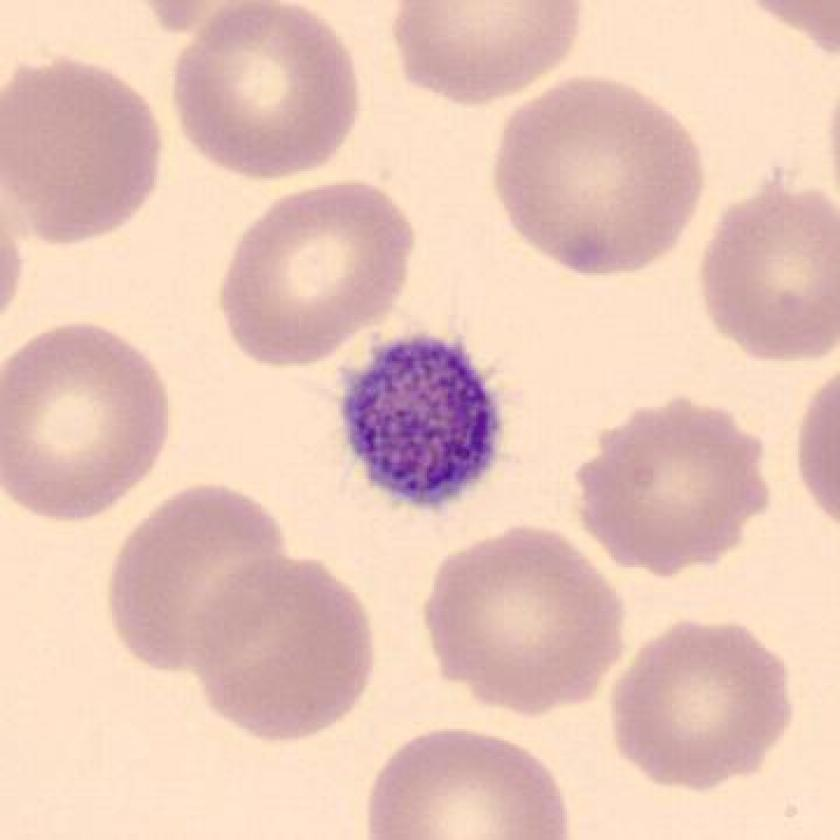platelets: (325, 323, 512, 522)
